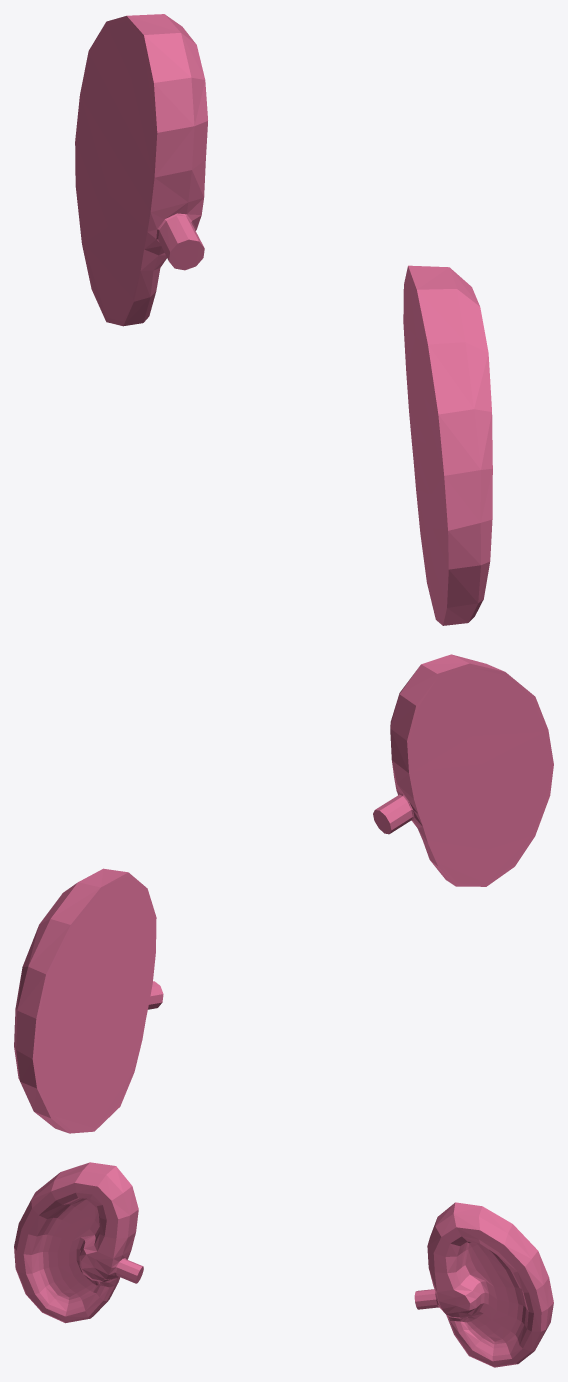
Rendered from ears.obj.
The picture shows the model from 3 angles, top to bottom: view 1: azimuth 30°, elevation 25°; view 2: azimuth 150°, elevation 25°; view 3: azimuth 270°, elevation 25°; orthographic projection. The views are drawn at different scales.
Visible parts, largest first — view 1: Object.1, Object.2; view 2: Object.2, Object.1; view 3: Object.1, Object.2.
Boxes of the visible parts, left/top/right/bottom form: Object.1: left=75, top=14, right=207, bottom=326; Object.2: left=403, top=265, right=492, bottom=625; Object.2: left=373, top=654, right=553, bottom=886; Object.1: left=14, top=868, right=163, bottom=1133; Object.1: left=414, top=1202, right=553, bottom=1367; Object.2: left=14, top=1162, right=143, bottom=1323.
Size of the model in its own units: 17.48 by 28.82 by 79.45.
1 material, 1 textured.
